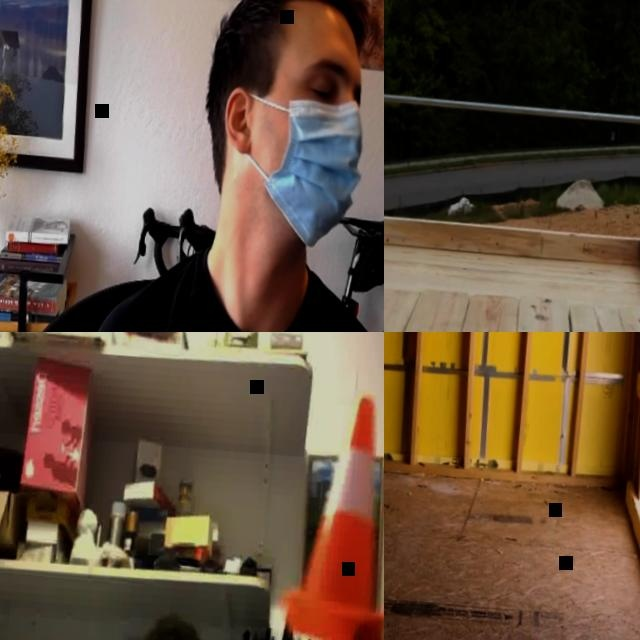Mask: (212, 85, 363, 246)
NO-Hardhat: (211, 0, 366, 71), (133, 615, 209, 640)
NO-Safety Vest: (99, 251, 380, 332)
Person: (32, 0, 384, 332)
Safety Cone: (275, 386, 384, 640)
